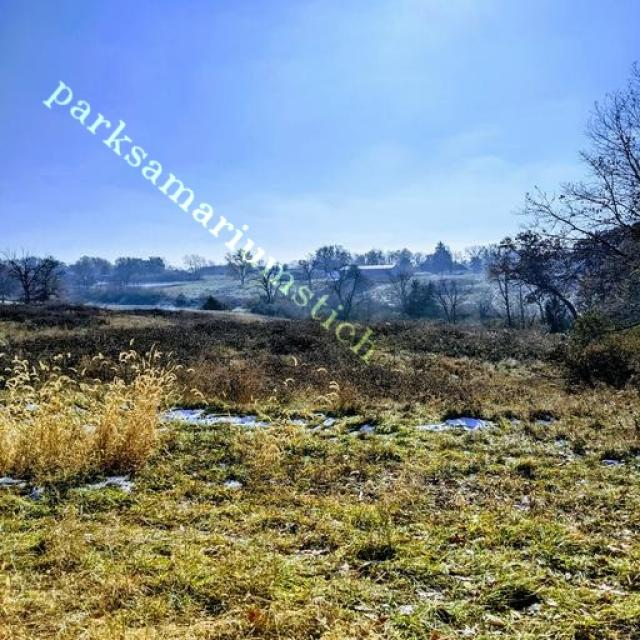watermark: (37, 64, 396, 371)
